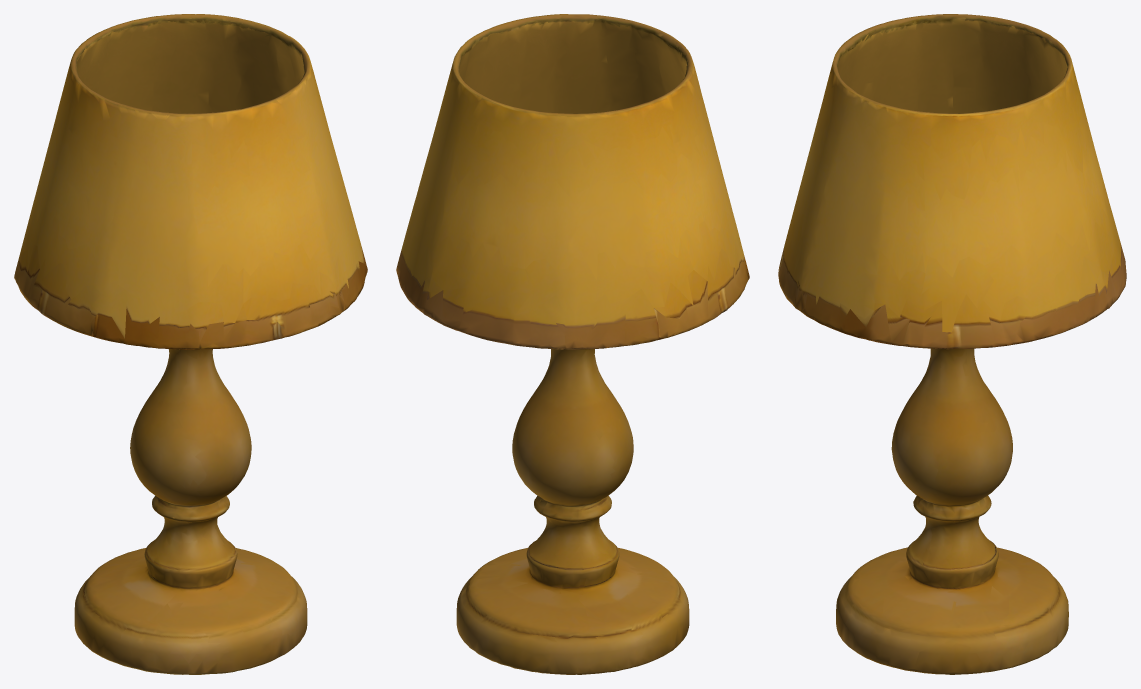
Rendered from Timeless_Glow_1016015514_texture.fbx.
3 renders of one model, left to right at view 1: azimuth 30°, elevation 25°; view 2: azimuth 150°, elevation 25°; view 3: azimuth 270°, elevation 25°, orthographic.
Parts seen in each view (by area): view 1: input; view 2: input; view 3: input.
Boxes of the visible parts, x1,y1,x2,y2 form: input: (14,14,367,674); input: (396,14,749,674); input: (778,14,1126,674).
Bounding box in the file's own units: 107 × 190 × 107.
Materials: 1 (1 with a texture image).
